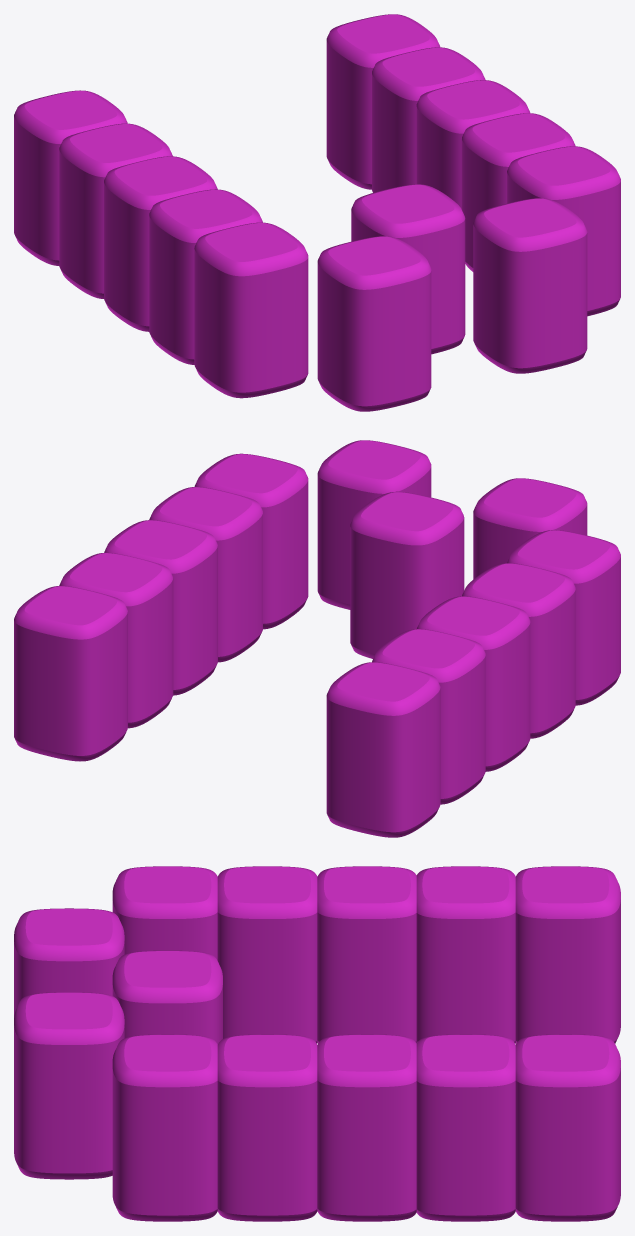
Rendered from Letter_M.fbx.
3 views of the same model, one above another, from view 1: azimuth 30°, elevation 25°; view 2: azimuth 150°, elevation 25°; view 3: azimuth 270°, elevation 25° (orthographic). The views are drawn at different scales.
Parts seen in each view (by area): view 1: Letter_M; view 2: Letter_M; view 3: Letter_M.
Part boxes in pixels (left/top/right/bottom): Letter_M: left=14, top=14, right=620, bottom=411; Letter_M: left=14, top=440, right=620, bottom=837; Letter_M: left=14, top=866, right=620, bottom=1221.
Bounding box in the file's own units: 0.4311 × 0.14 × 0.5146.
